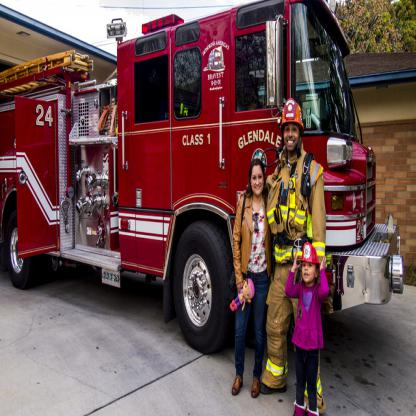Truck: (0, 0, 404, 355)
